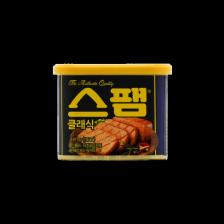spam: (53, 62, 172, 160)
